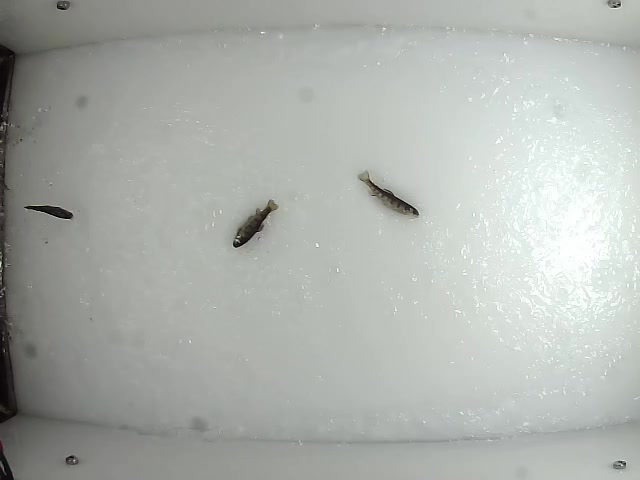fish: (356, 168, 422, 219), (230, 196, 280, 249), (22, 202, 76, 220)
